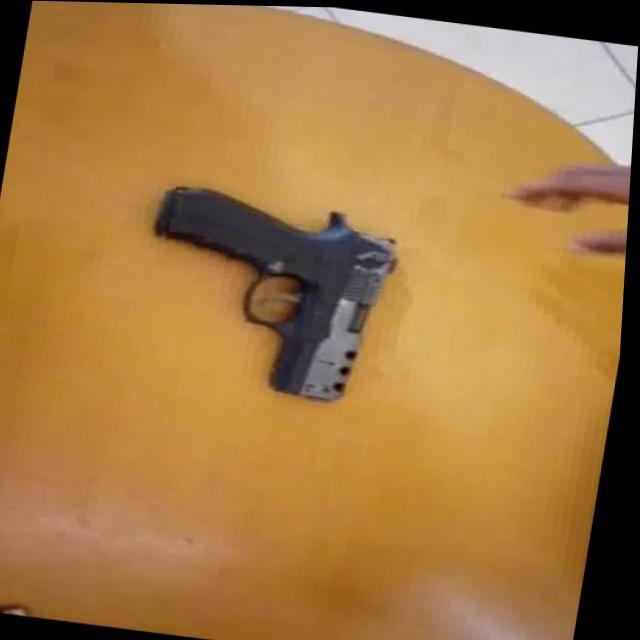weapon: (130, 178, 410, 406)
